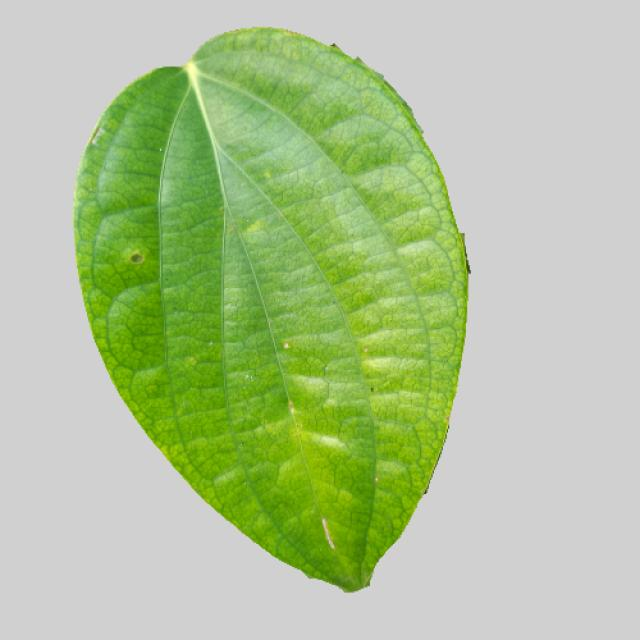healthy: (71, 30, 480, 605)
